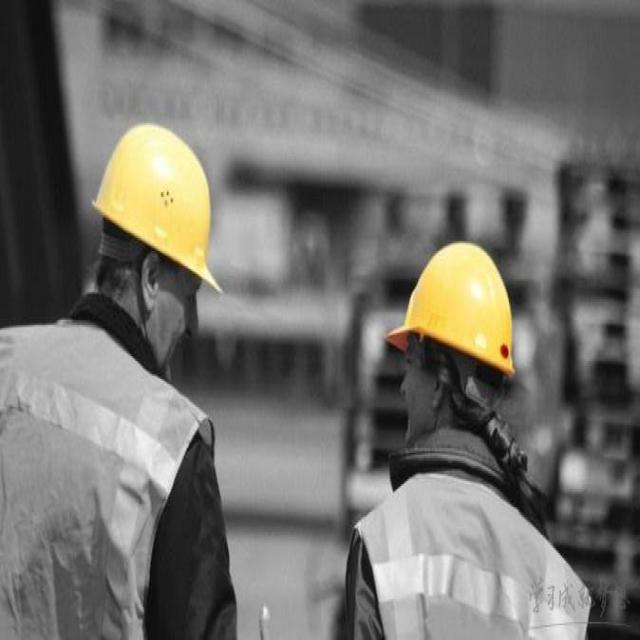Reflective-Jacket: (0, 316, 216, 640), (350, 454, 593, 640)
Safety-Helmet: (90, 117, 224, 300), (384, 236, 518, 388)
